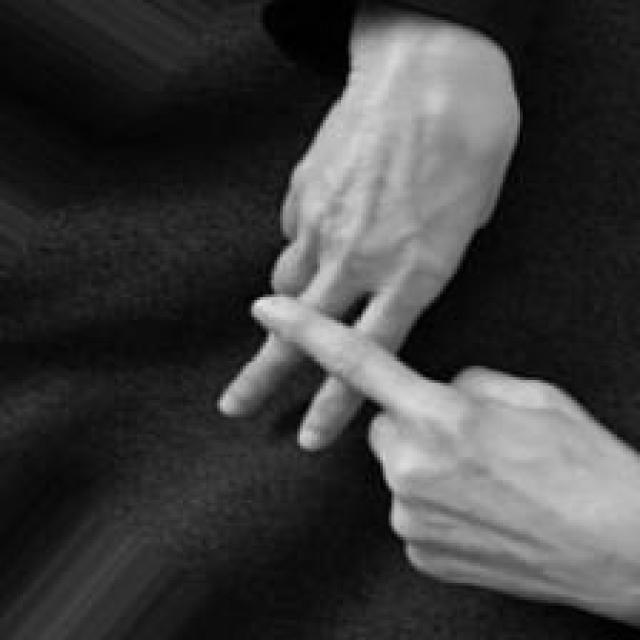A: (220, 57, 568, 606)
